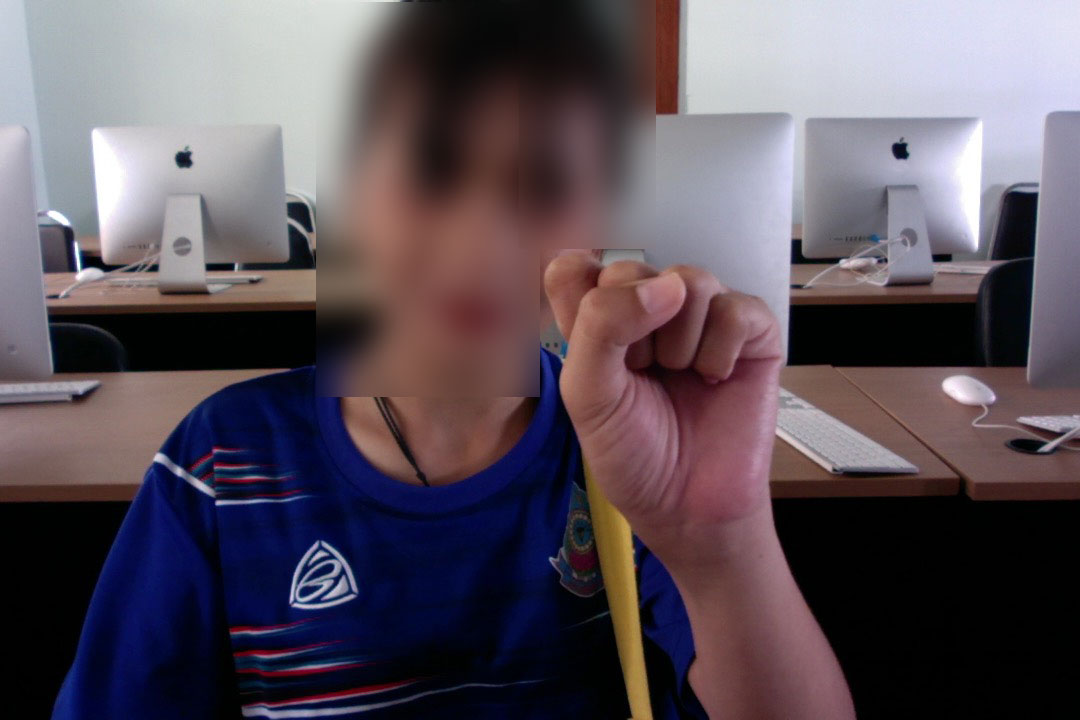sor: (537, 241, 790, 556)
